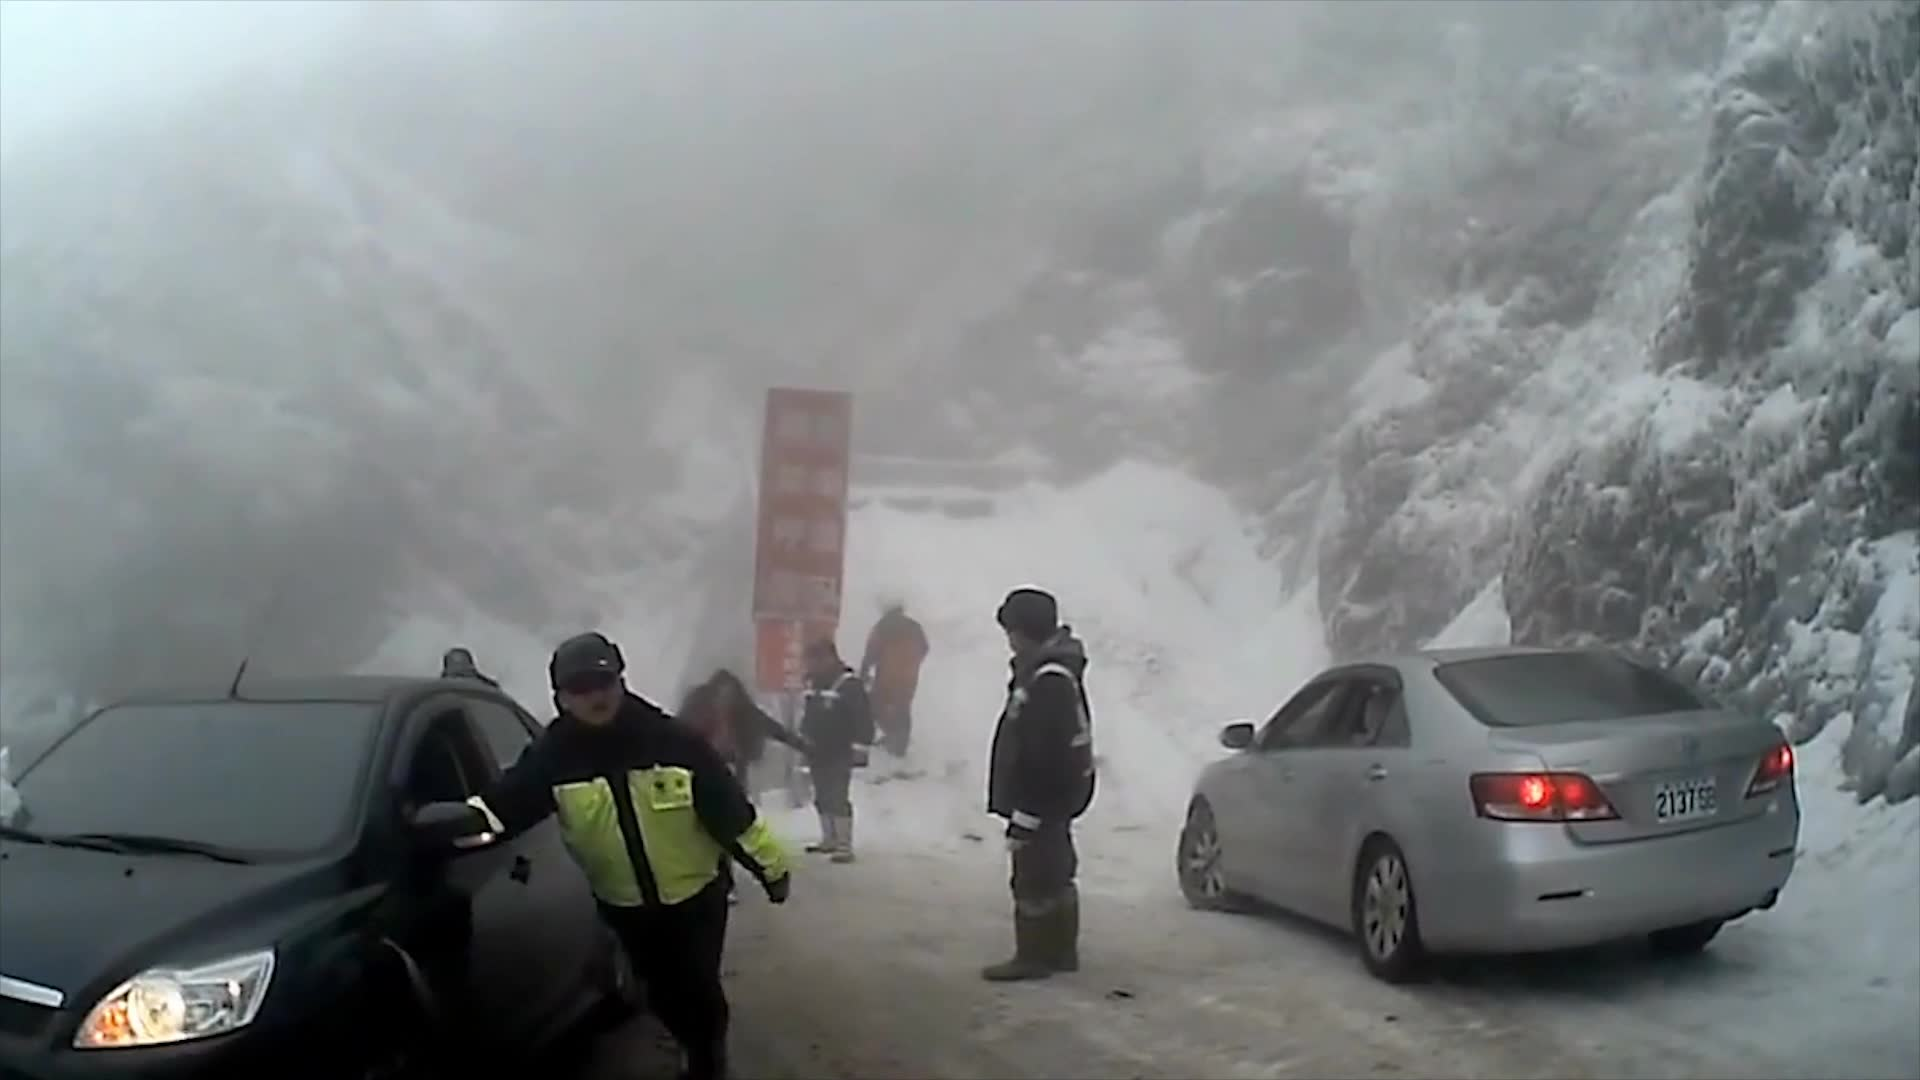pedestrian: (433, 636, 795, 1080), (961, 585, 1092, 983), (672, 672, 818, 911), (791, 635, 869, 861), (854, 587, 928, 757)
vehicle: (0, 673, 671, 1080), (1162, 640, 1796, 983)
